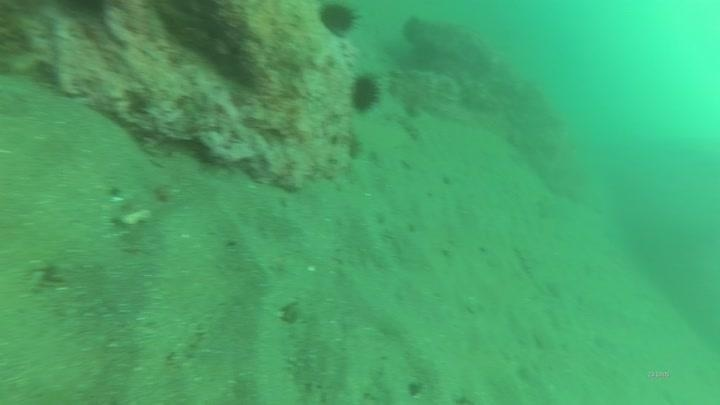echinus: (315, 1, 361, 40), (346, 71, 383, 116)
